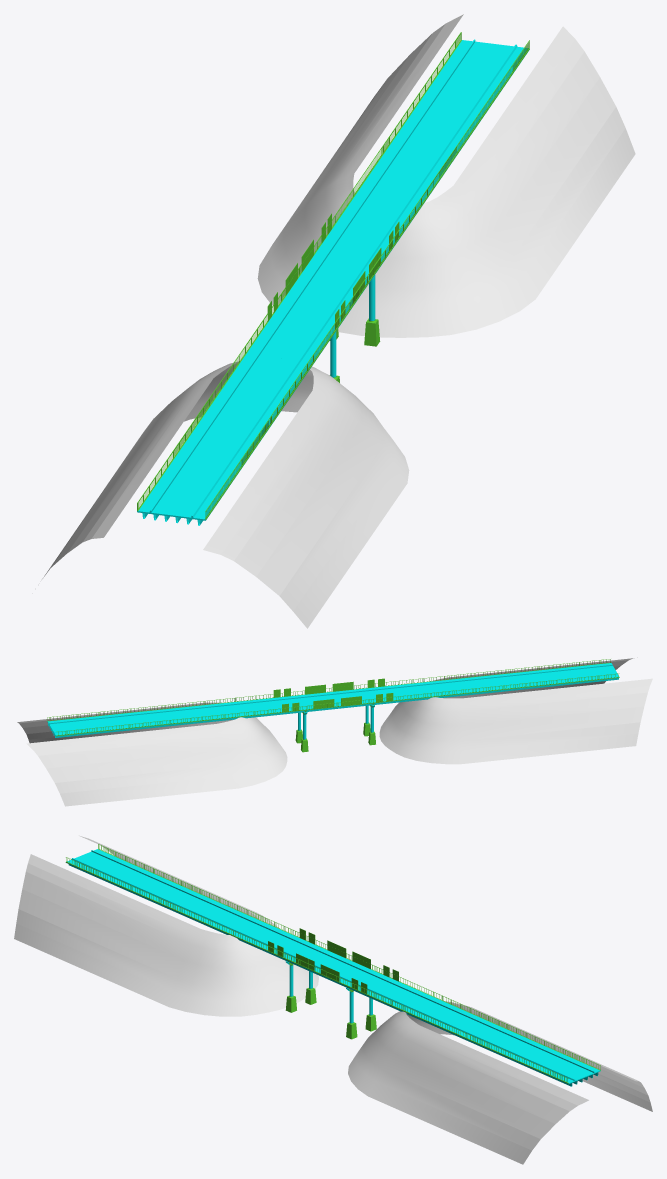
File: MV_Bridge.fbx
3 views of the same model, one above another, from view 1: azimuth 30°, elevation 25°; view 2: azimuth 150°, elevation 25°; view 3: azimuth 270°, elevation 25° (orthographic). The views are drawn at different scales.
Parts seen in each view (by area): view 1: MV_Bridge_M; view 2: MV_Bridge_M; view 3: MV_Bridge_M.
Boxes of the visible parts, left/top/right/bottom form: MV_Bridge_M: left=42, top=14, right=635, bottom=628; MV_Bridge_M: left=17, top=657, right=652, bottom=806; MV_Bridge_M: left=14, top=835, right=652, bottom=1164.
Bounding box in the file's own units: 14603 × 1719 × 14236.
